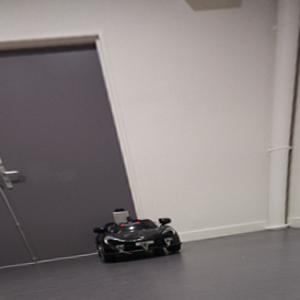big: (93, 217, 185, 262)
